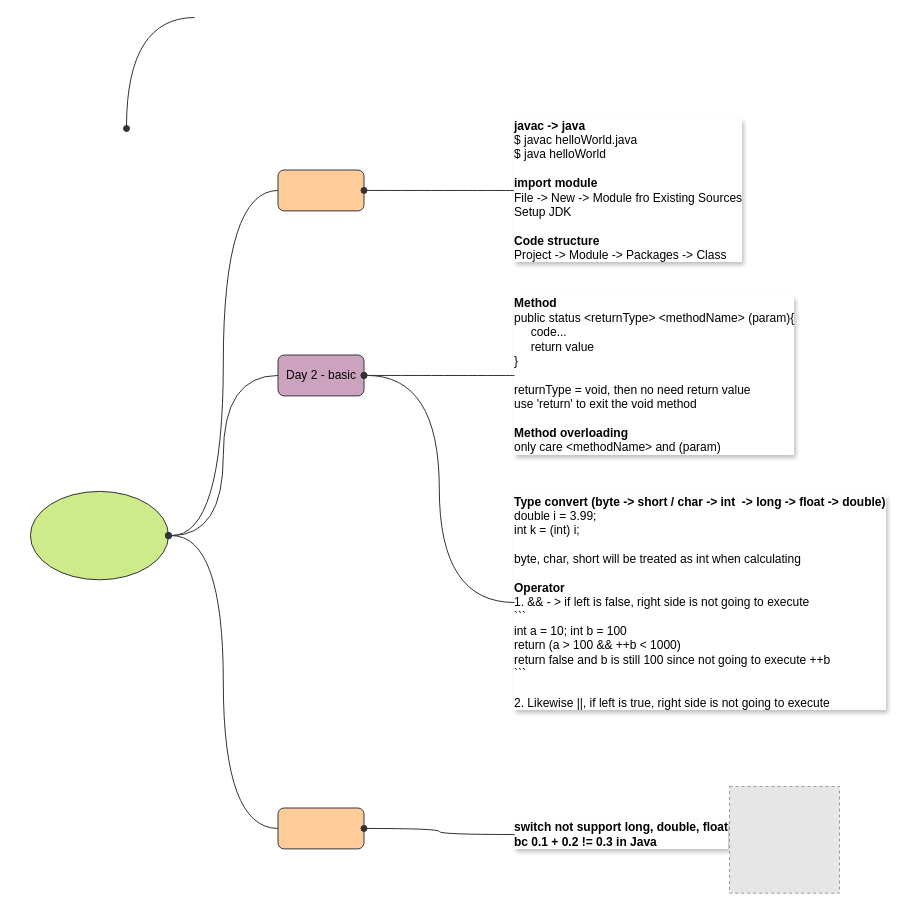
Image size: 917x911. Some labels were removed from this diagram. Grey dashed boxes stand in for pictures. Each missing label, with the centre of its shape:
"Day 1 - intro" goes at point (320, 190).
"Day 3 - switch" goes at point (320, 828).
"Java" goes at point (98, 535).
